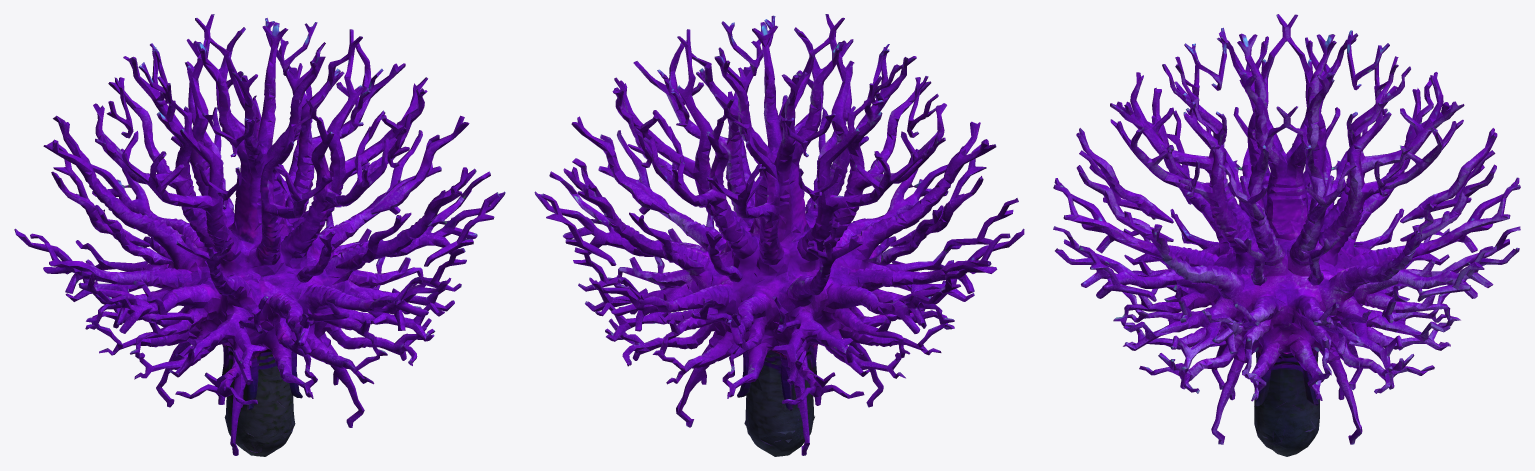
The model's file is bloom_coral_fan.glb.
The picture shows the model from 3 angles, left to right: view 1: azimuth 30°, elevation 25°; view 2: azimuth 150°, elevation 25°; view 3: azimuth 270°, elevation 25°; orthographic projection.
Bounding box in the file's own units: 1.89 × 1.8 × 1.9.
Materials: 1 (1 with a texture image).
